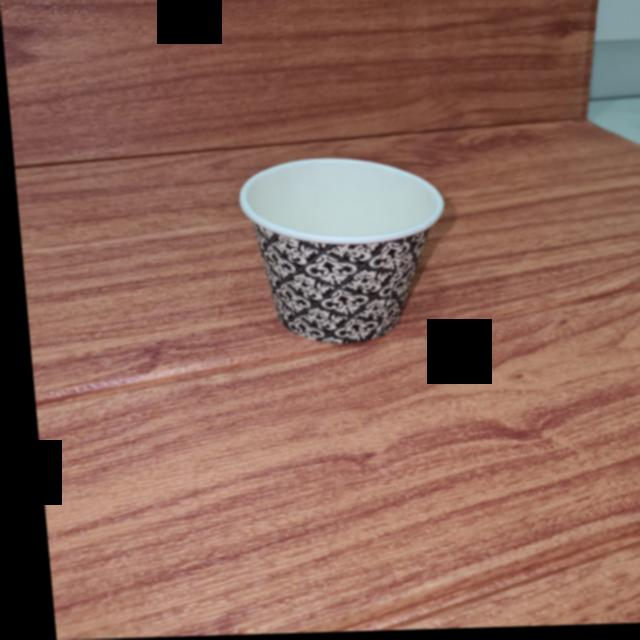cups: (232, 154, 461, 347)
